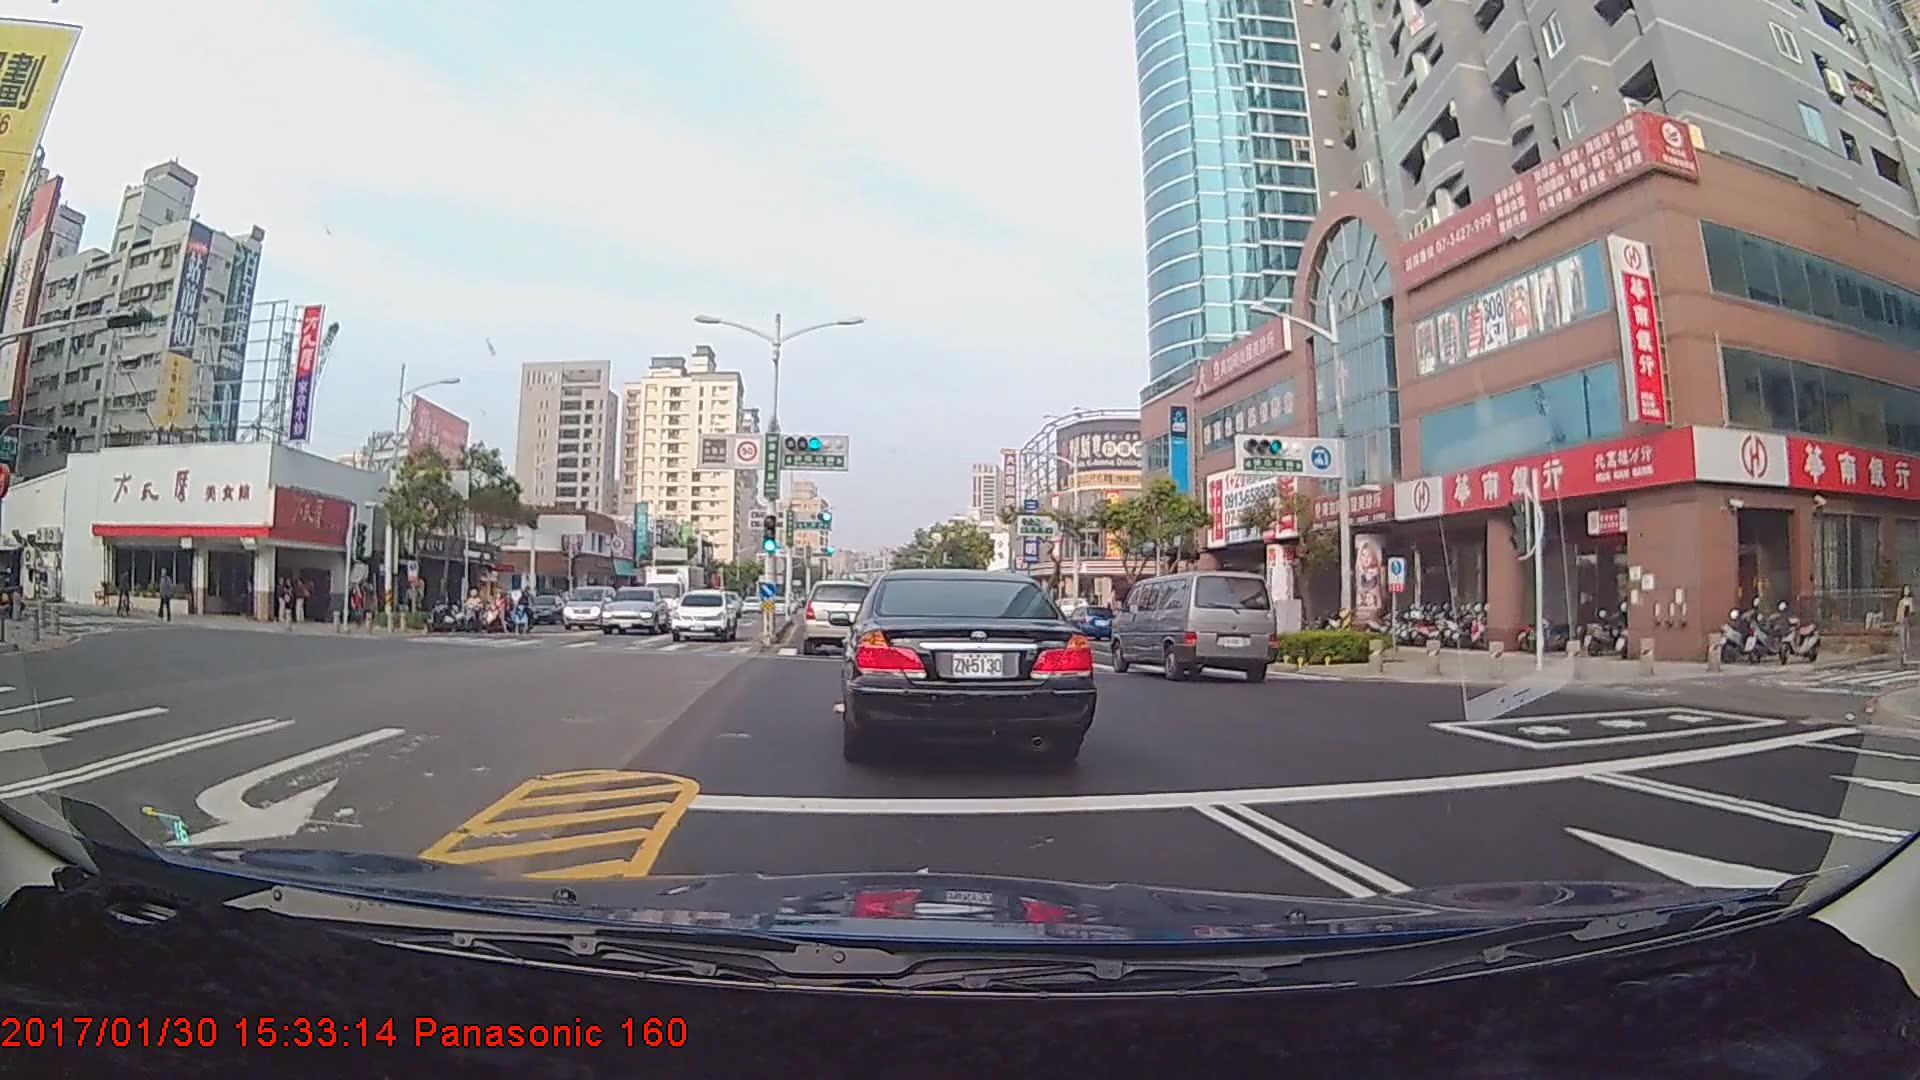pedestrian: (1893, 586, 1920, 663), (154, 569, 174, 622), (292, 577, 312, 625), (277, 576, 297, 626)
vehicle: (840, 563, 1088, 760), (1115, 568, 1275, 682), (801, 578, 878, 656), (647, 558, 713, 631), (670, 589, 738, 643), (600, 585, 670, 636), (561, 582, 614, 627), (1059, 603, 1111, 643)
